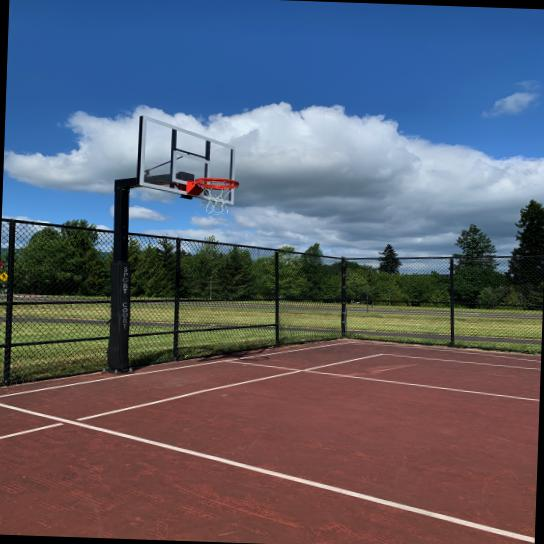basketball-hoop: (192, 176, 240, 216)
